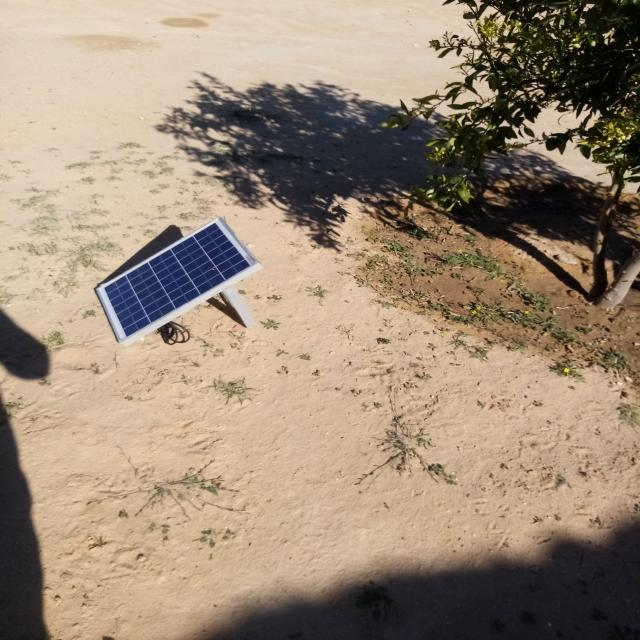no faulty: (95, 218, 256, 341)
